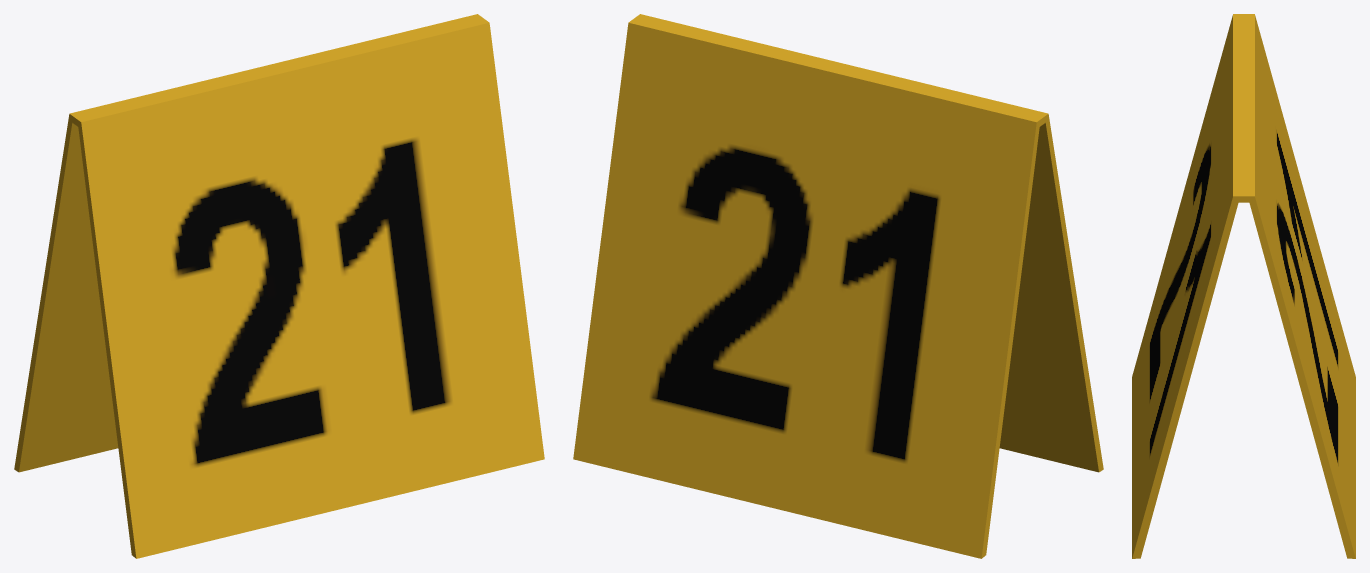
File: card_21.fbx
3 views of the same model, side by side, from view 1: azimuth 30°, elevation 25°; view 2: azimuth 150°, elevation 25°; view 3: azimuth 270°, elevation 25° (orthographic). The views are drawn at different scales.
Visible parts, largest first — view 1: card.021; view 2: card.021; view 3: card.021.
Part boxes in pixels (<box>): card.021: <box>14,14,544,558</box>; card.021: <box>573,14,1103,558</box>; card.021: <box>1132,14,1355,558</box>.
Size of the model in its own units: 17.96 by 16.66 by 9.31.
